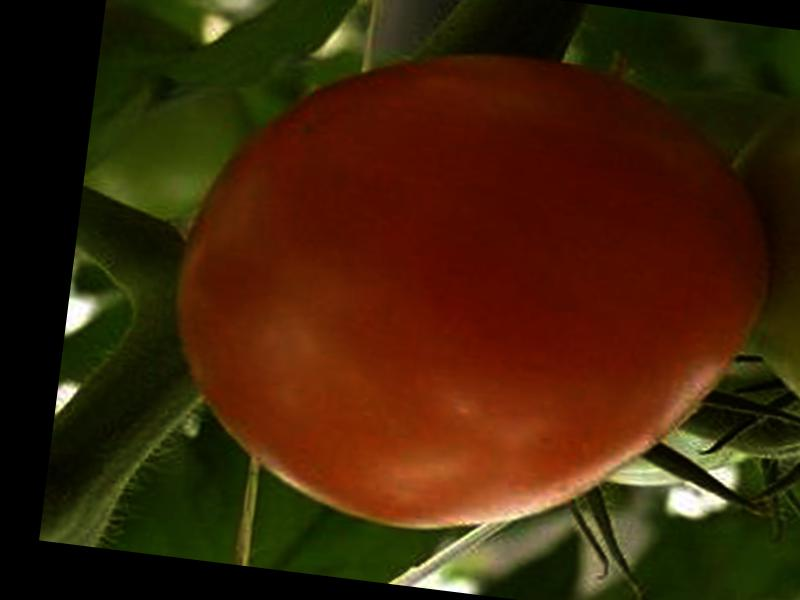Tomato: (152, 18, 788, 570)
